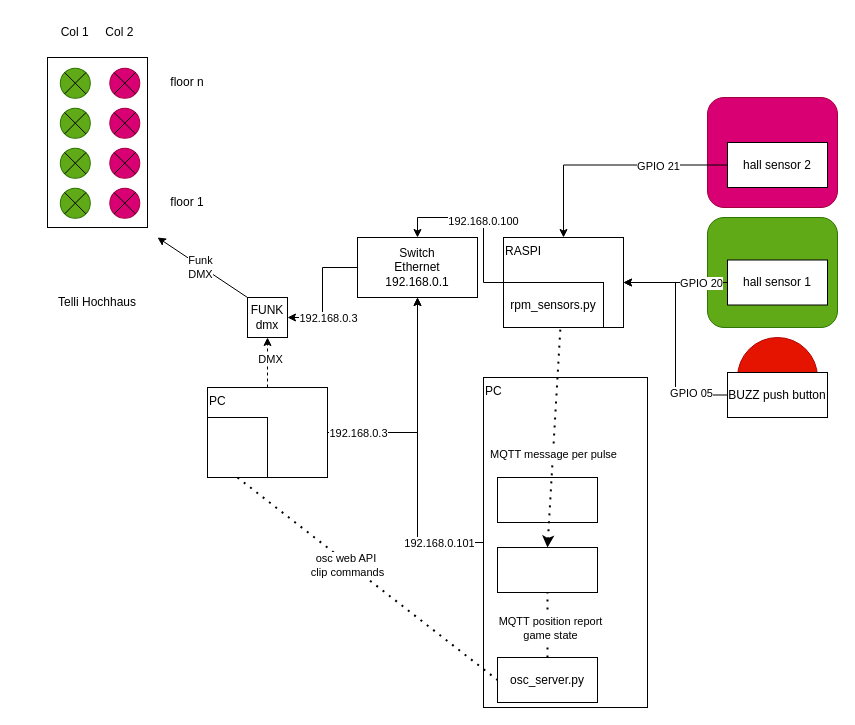
Image size: 855x725. Some labels were removed from this diagram. Each missing label, with the box of its shape:
Arena Resolum: (206, 416, 268, 478)
home trainer 1: (706, 216, 838, 328)
home trainer 2: (706, 96, 838, 208)
MQTT Broker: (496, 476, 598, 522)
raceer.py (game): (496, 546, 598, 592)
